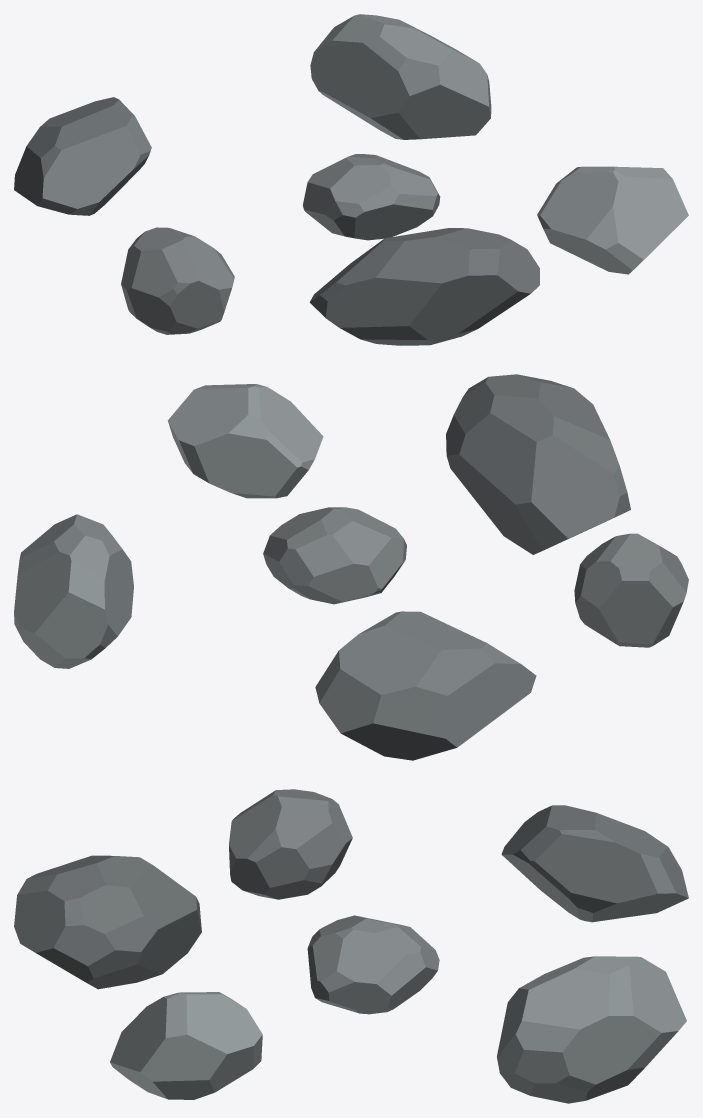
The model's file is NHP_Rock_Cobble_A1_03.fbx.
3 renders of one model, top to bottom at view 1: azimuth 30°, elevation 25°; view 2: azimuth 150°, elevation 25°; view 3: azimuth 270°, elevation 25°, orthographic. The views are drawn at different scales.
Parts seen in each view (by area): view 1: NHP_Rock_Cobble_A1_03_LOD0; view 2: NHP_Rock_Cobble_A1_03_LOD0; view 3: NHP_Rock_Cobble_A1_03_LOD0.
Part boxes in pixels (<box>): NHP_Rock_Cobble_A1_03_LOD0: <box>14,14,688,345</box>; NHP_Rock_Cobble_A1_03_LOD0: <box>14,374,688,760</box>; NHP_Rock_Cobble_A1_03_LOD0: <box>14,789,688,1103</box>.
Size of what is drawn, in the model's own units: 1.07 by 0.24 by 1.16.
